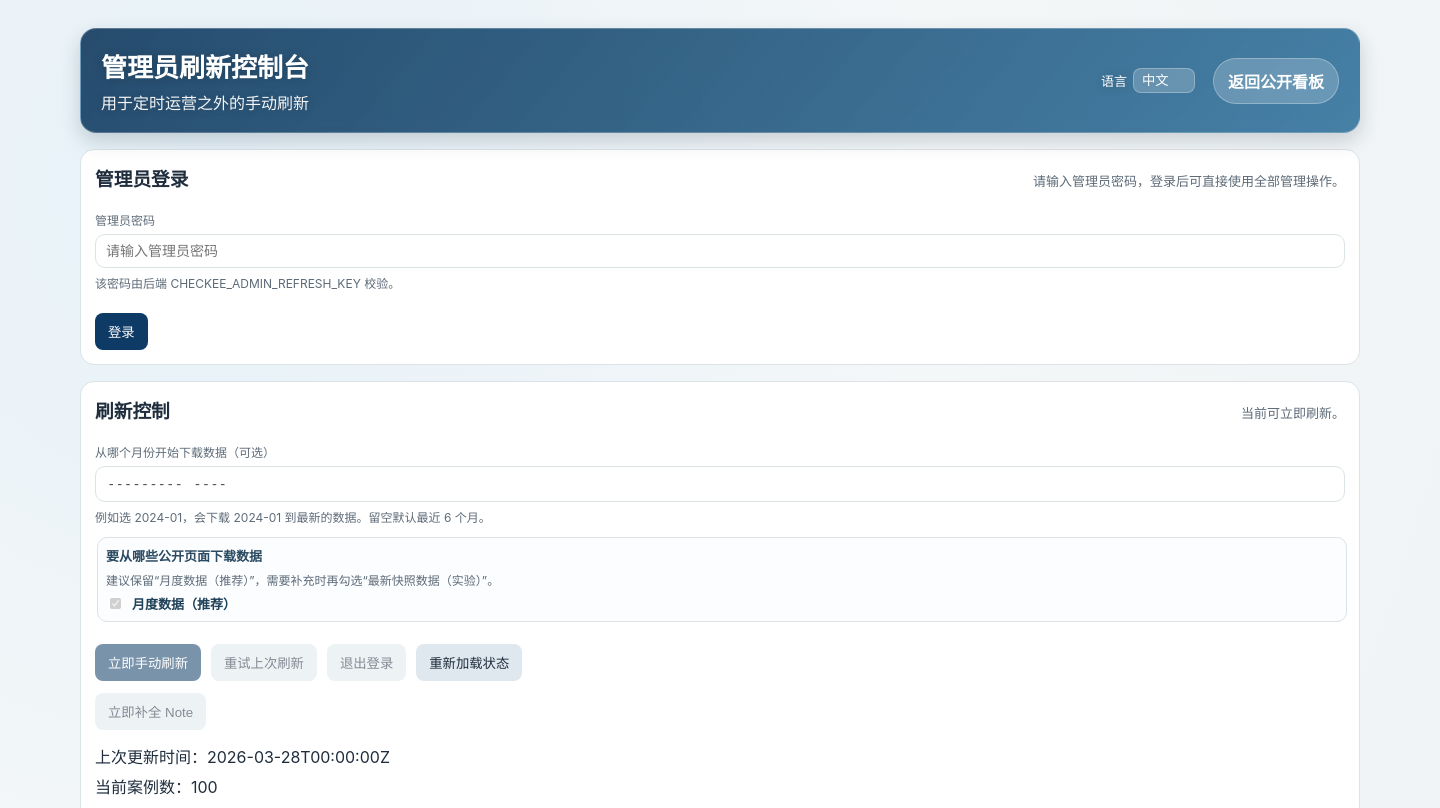
Test: AdminPage › 数据过旧时应触发管理员兜底刷新
The width and height of the screenshot is (1440, 808).
Type "Zcb070920!" into the password field with placeholder "请输入管理员密码".
click(720, 251); type("Zcb070920!")  # box top-left (95, 234), bottom-right (1345, 268)
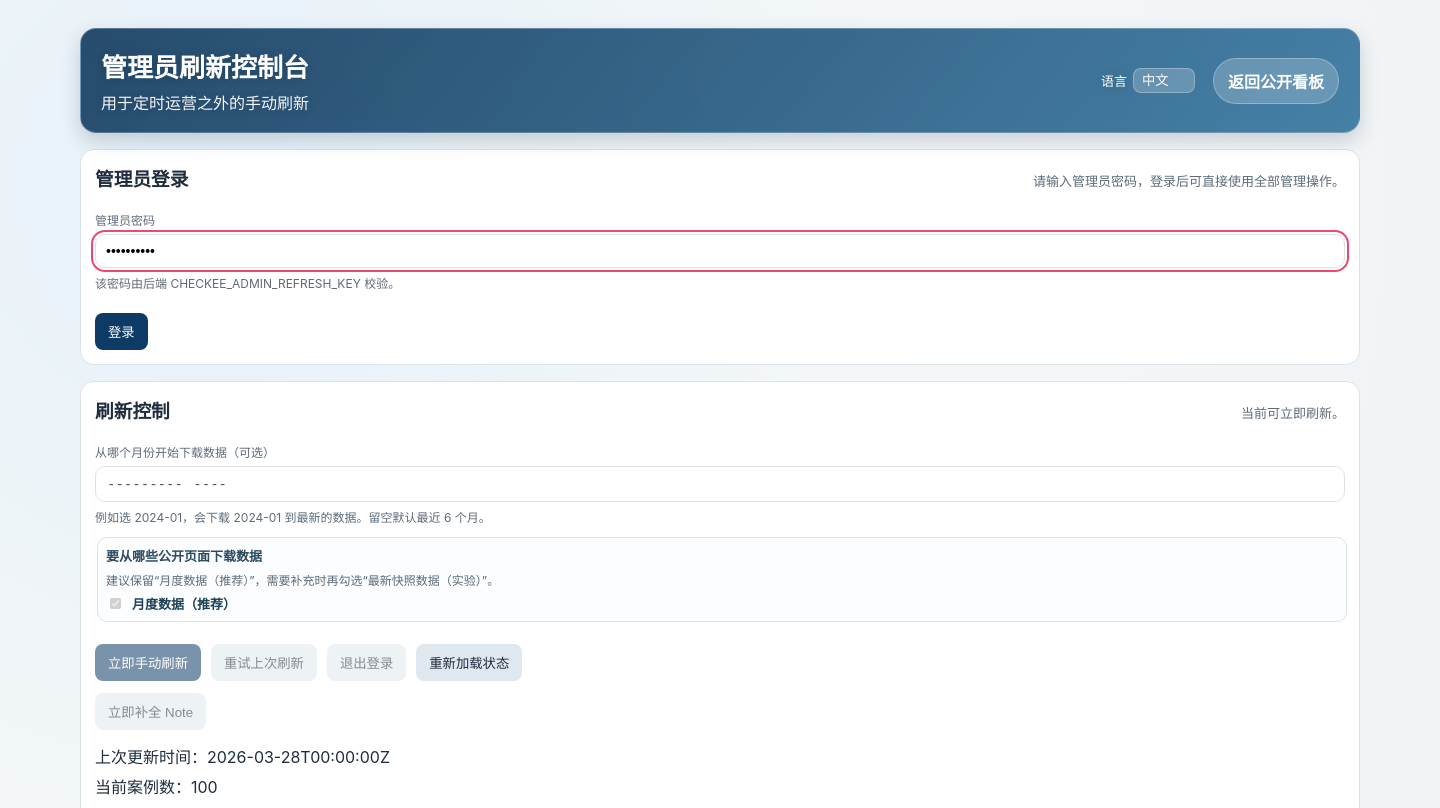
Click the button "登录".
click(121, 332)  # box top-left (95, 313), bottom-right (148, 350)
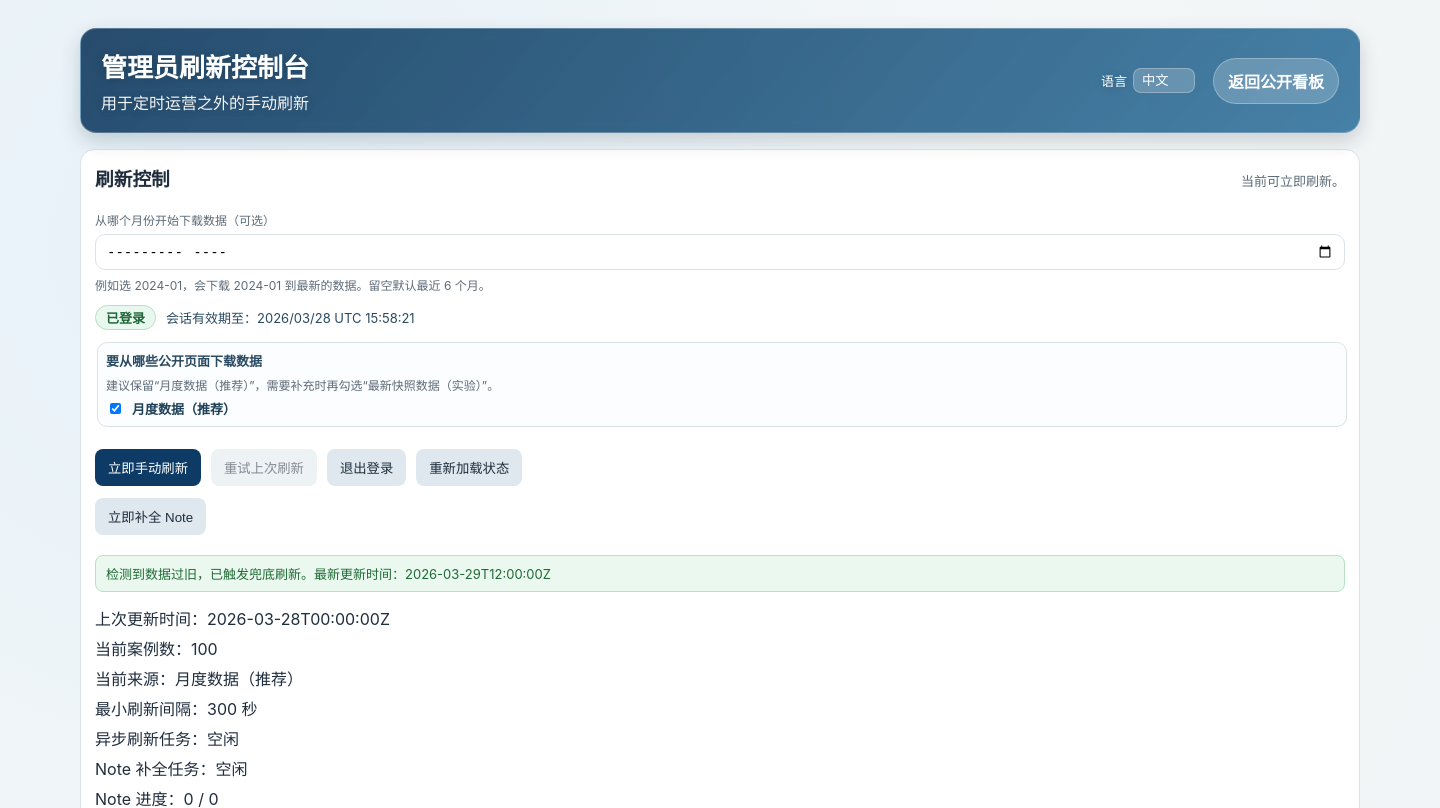
expect the text "检测到数据过旧，已触发兜底刷新。最新更新时间：2026-03-29T12:00:00Z" is shown: met, box top-left (95, 555), bottom-right (1345, 592)
